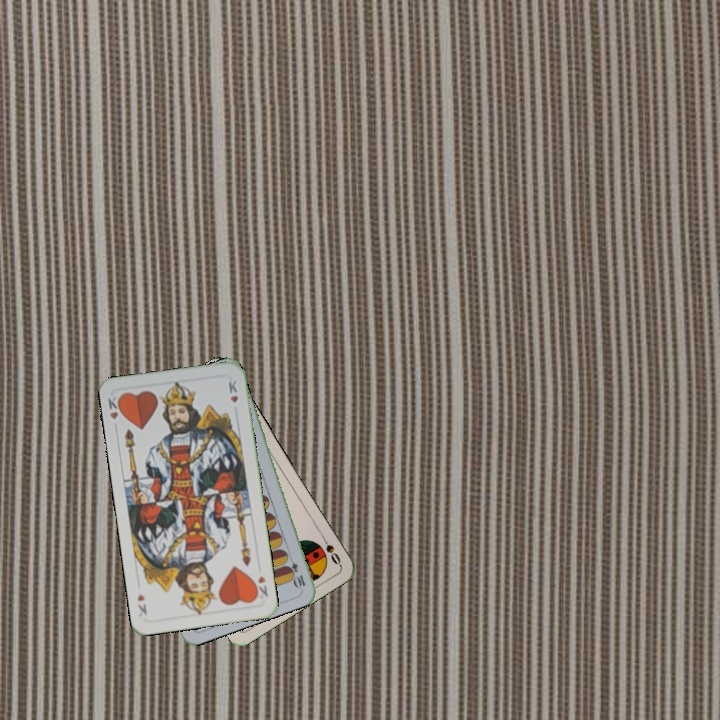E10: (283, 551, 308, 591)
HK: (104, 391, 125, 433), (250, 571, 270, 601)
SO: (317, 530, 343, 568)
